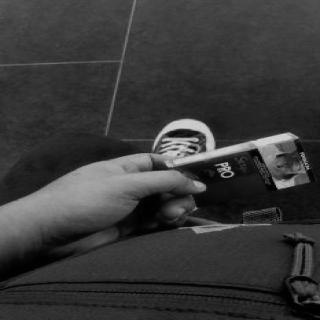objects: (166, 133, 317, 207)
